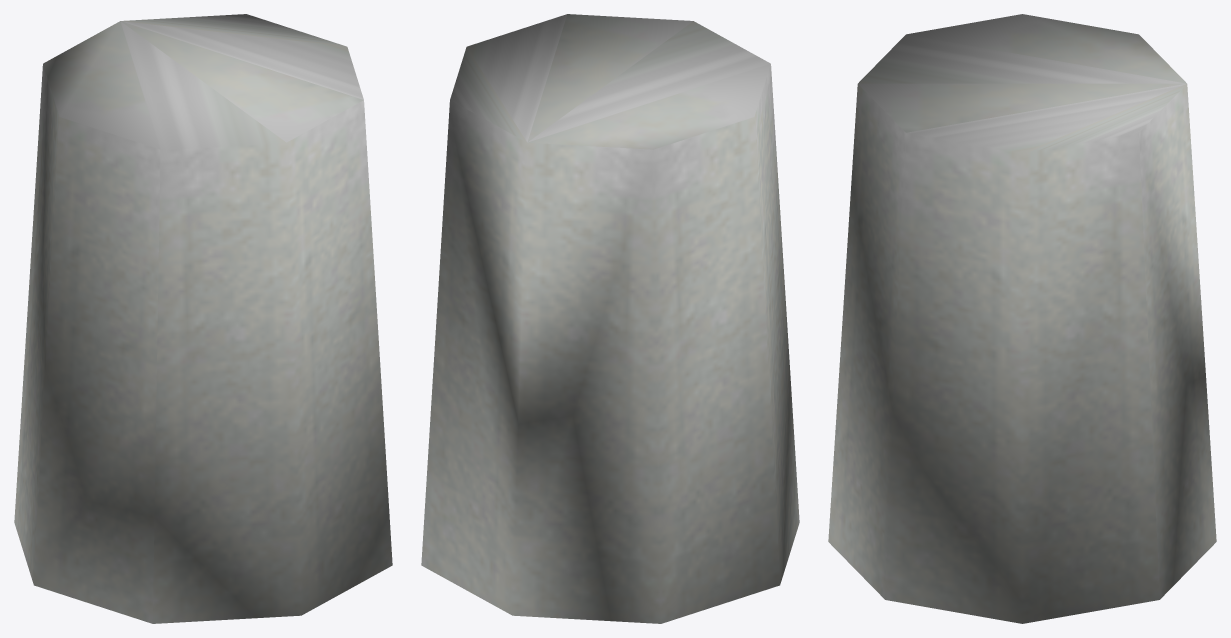
File: general_obj_bigtower08_lod_01.fbx
The picture shows the model from 3 angles, left to right: view 1: azimuth 30°, elevation 25°; view 2: azimuth 150°, elevation 25°; view 3: azimuth 270°, elevation 25°; orthographic projection.
Parts seen in each view (by area): view 1: Sphere01; view 2: Sphere01; view 3: Sphere01.
Boxes of the visible parts, x1,y1,x2,y2 form: Sphere01: (14,14,392,623); Sphere01: (421,14,799,623); Sphere01: (828,14,1216,623).
Size of the model in its own units: 3.7 by 4.82 by 3.7.
